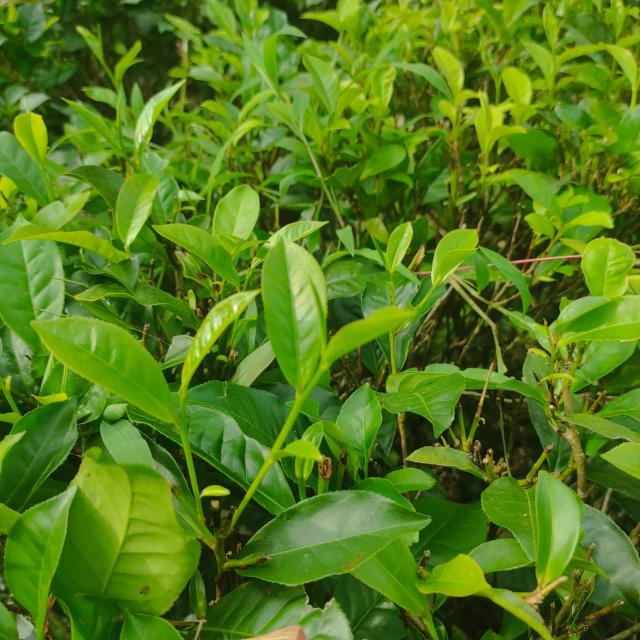unopened_leaf: (307, 269, 335, 364), (365, 228, 394, 274), (110, 86, 129, 153), (95, 22, 106, 50)
